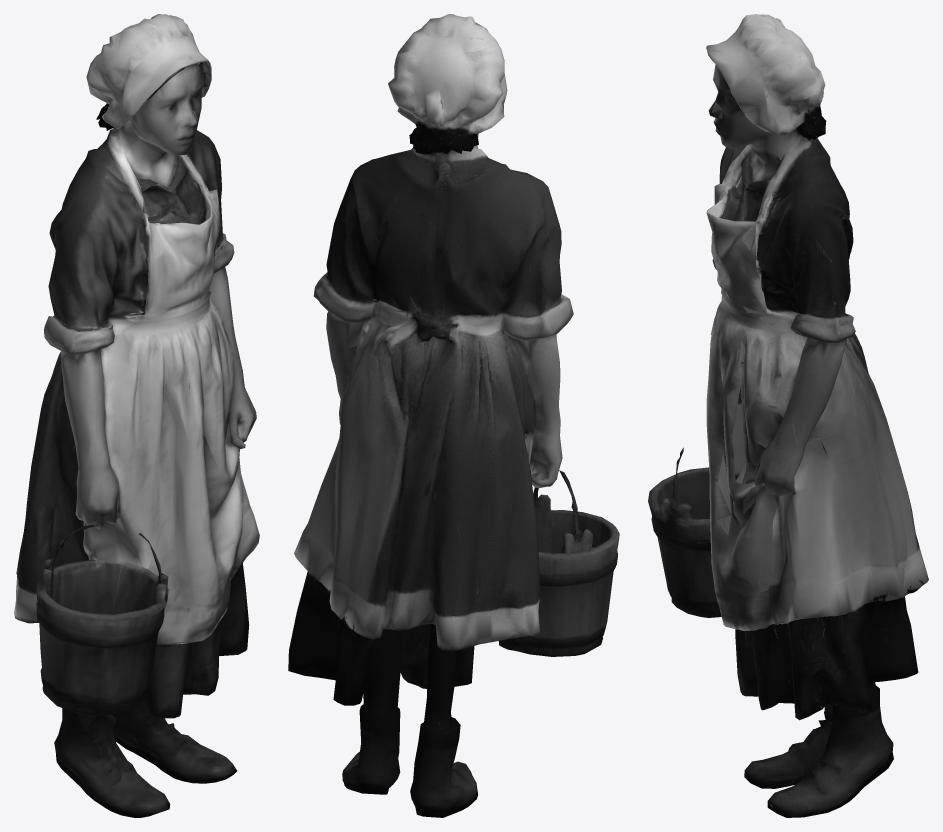
File: bess_pruitt_ghost.glb
The picture shows the model from 3 angles, left to right: view 1: azimuth 30°, elevation 25°; view 2: azimuth 150°, elevation 25°; view 3: azimuth 270°, elevation 25°; orthographic projection. The views are drawn at different scales.
Visible parts, largest first — view 1: RETOPO; view 2: RETOPO; view 3: RETOPO.
Boxes of the visible parts, bbox=[...] form: RETOPO: bbox=[14, 14, 259, 817]; RETOPO: bbox=[288, 14, 619, 817]; RETOPO: bbox=[648, 14, 928, 817].
Size of the model in its own units: 0.5593 by 1.6 by 0.5329.
Materials: 1 (1 with a texture image).
